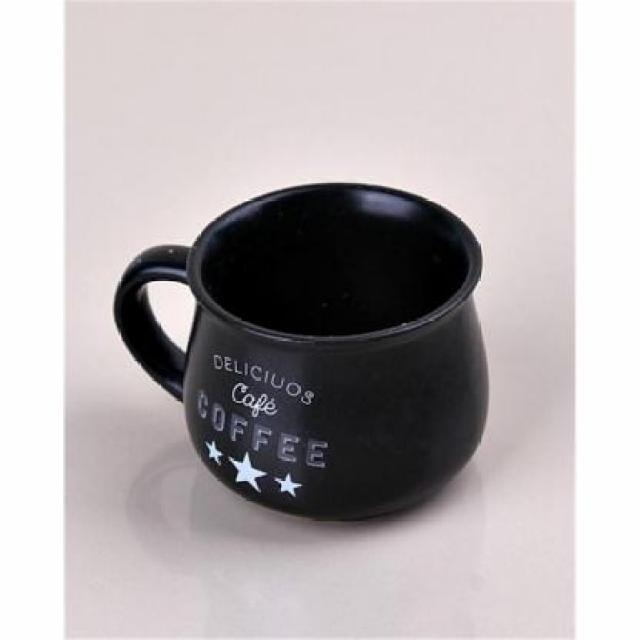taza: (107, 172, 502, 532)
